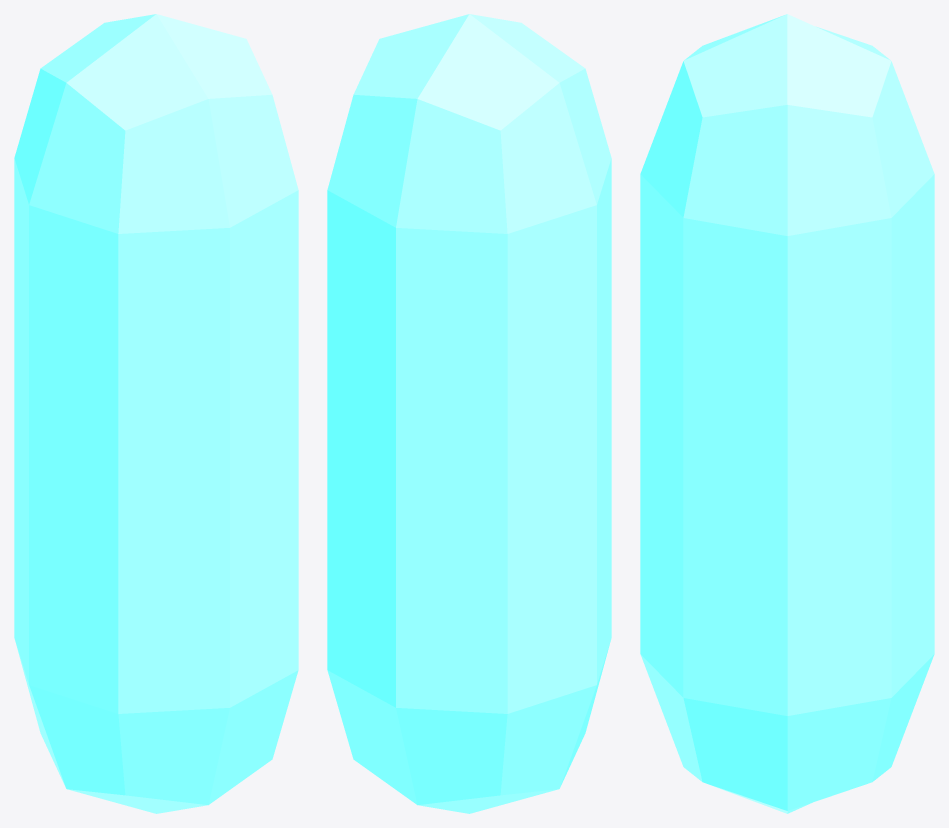
Rendered from Health_Pickup.glb.
3 views of the same model, side by side, from view 1: azimuth 30°, elevation 25°; view 2: azimuth 150°, elevation 25°; view 3: azimuth 270°, elevation 25° (orthographic).
Visible parts, largest first — view 1: Health_Pickup_geometry; view 2: Health_Pickup_geometry; view 3: Health_Pickup_geometry.
Part boxes in pixels (x1,y1,x2,y2): Health_Pickup_geometry: (14,14,298,813); Health_Pickup_geometry: (327,14,611,813); Health_Pickup_geometry: (640,14,934,813).
Size of the model in its own units: 1 by 3 by 1.
